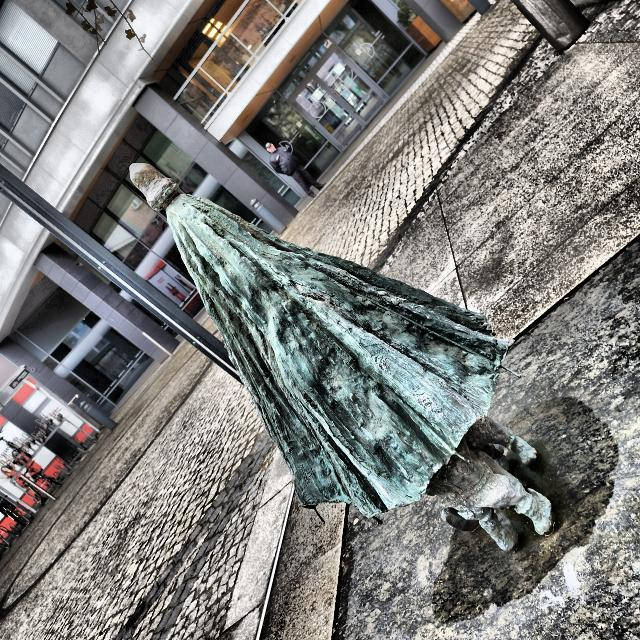Parasolniki: (129, 162, 551, 551)
